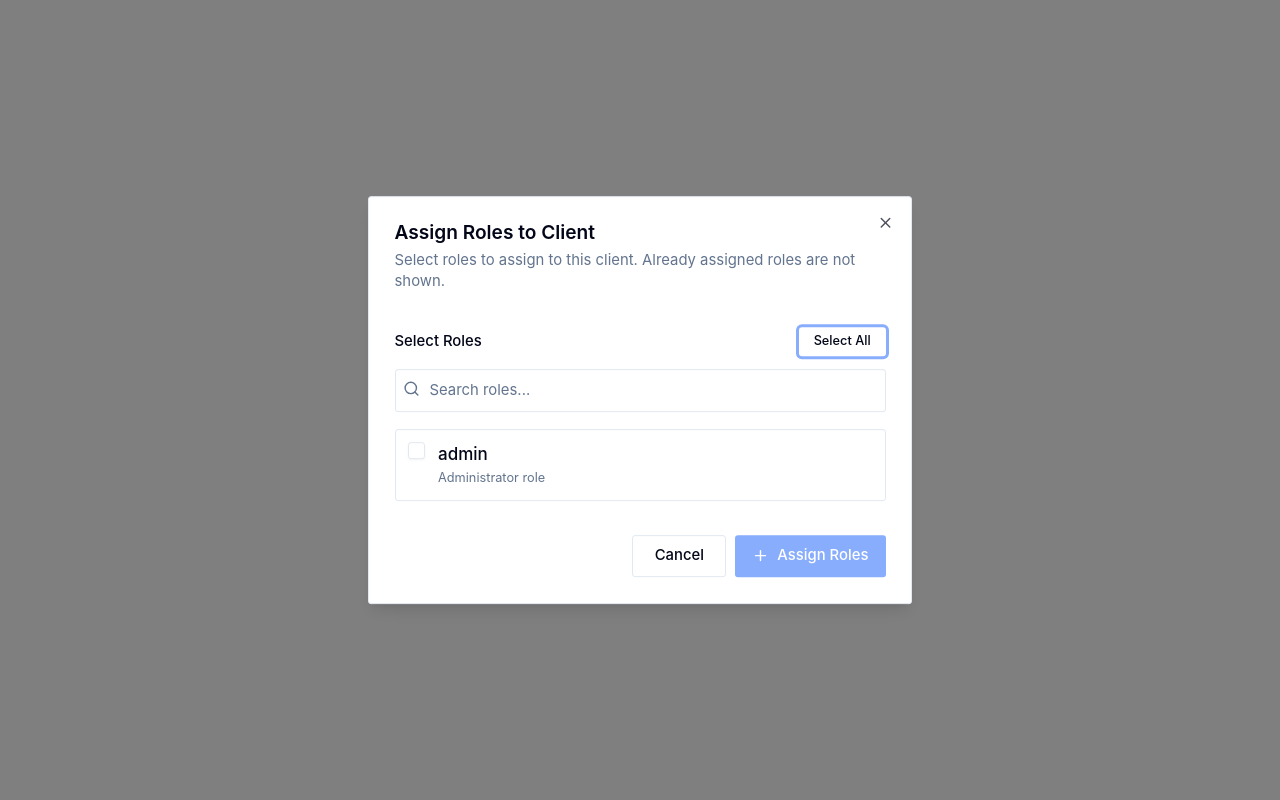
it: AssignClientRolesDialog › filters by search and shows the no-match state
Type "zzz" into the field with placeholder "Search roles..." at (640, 391), box top-left (394, 369), bottom-right (886, 412)
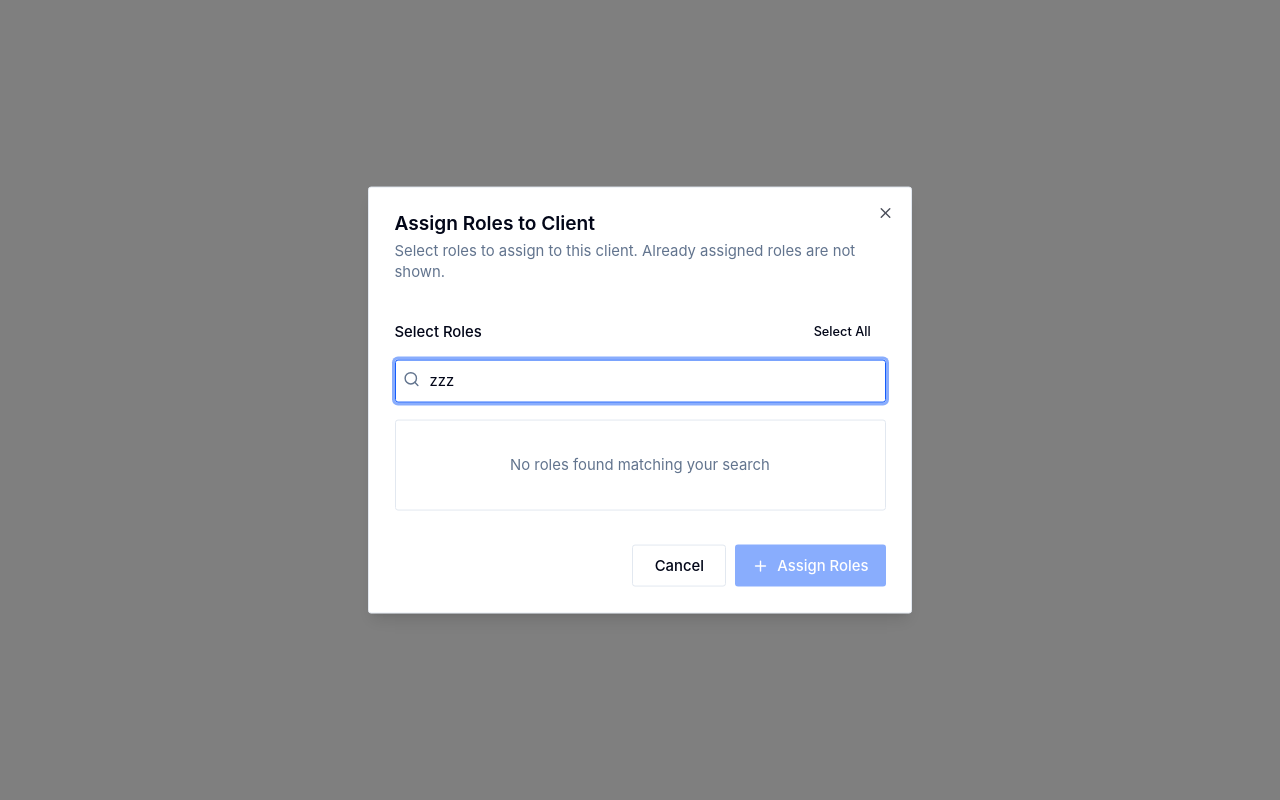
Expected: the text "No roles found matching your search" is shown, top-left (510, 455), bottom-right (770, 473)
